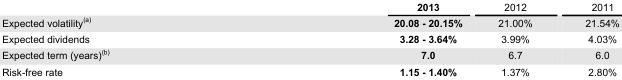table: (1, 0, 618, 76)
table column: (1, 0, 250, 76), (250, 0, 479, 76), (479, 0, 558, 76), (558, 0, 618, 76)
table column header: (1, 0, 618, 13)
table row: (1, 45, 618, 63), (1, 13, 618, 30), (1, 30, 618, 45), (1, 0, 618, 13), (1, 63, 618, 76)
